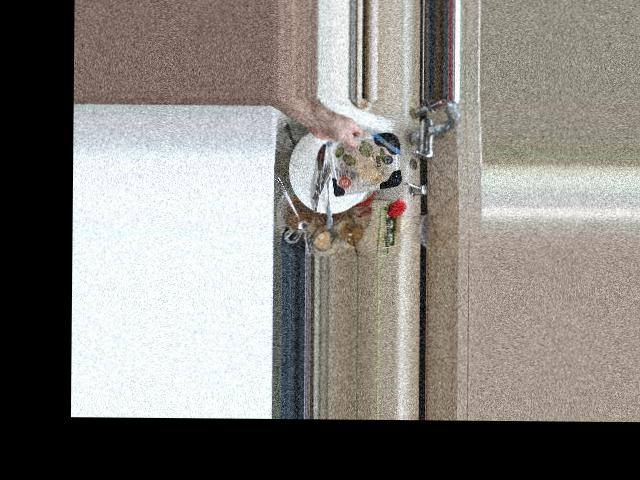cheese: (315, 113, 407, 194)
